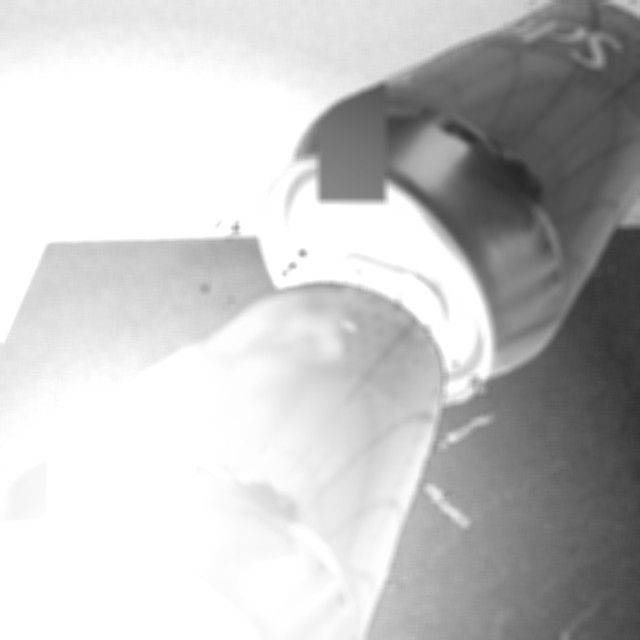coca cola: (87, 375, 259, 566)
schweppes: (0, 161, 492, 640), (215, 0, 640, 455)
